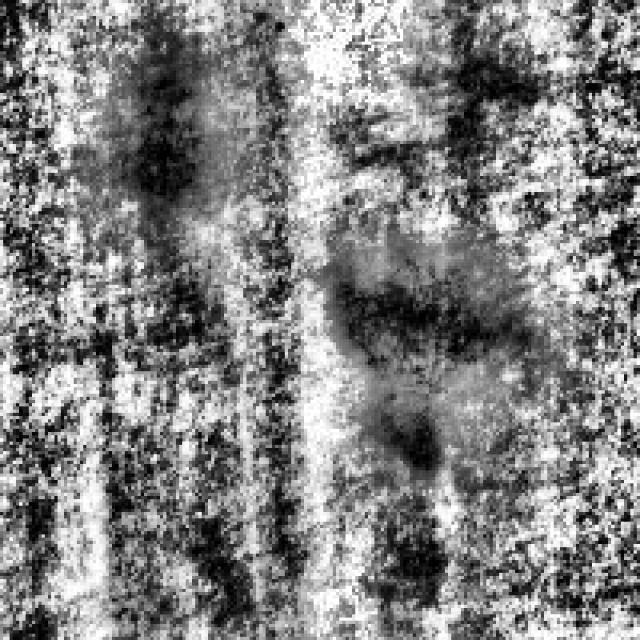Scratches: (314, 237, 508, 470), (109, 41, 228, 218)
